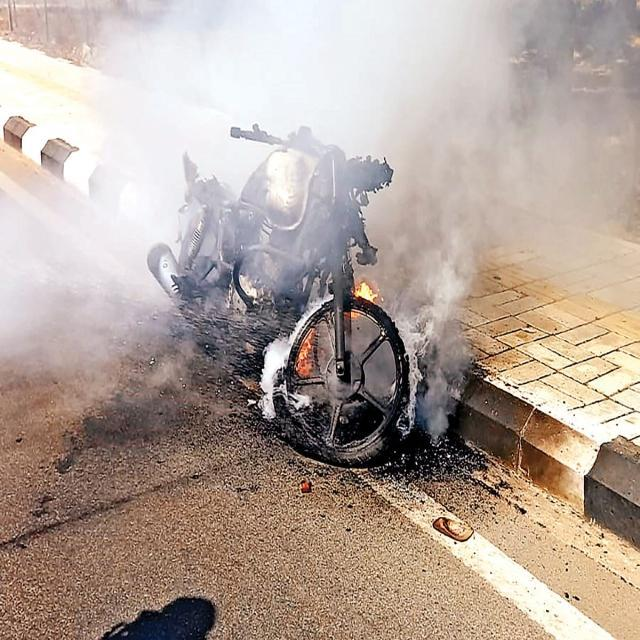Fire: (291, 326, 318, 380), (348, 278, 382, 320)
Smoke: (0, 1, 640, 448)
